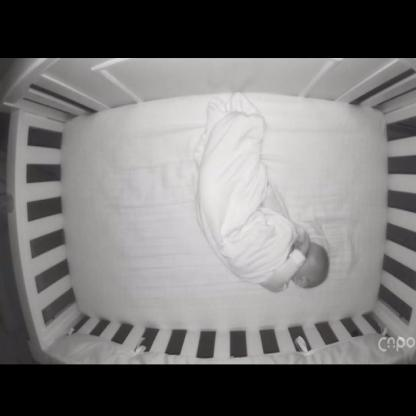baby: (196, 112, 329, 293)
